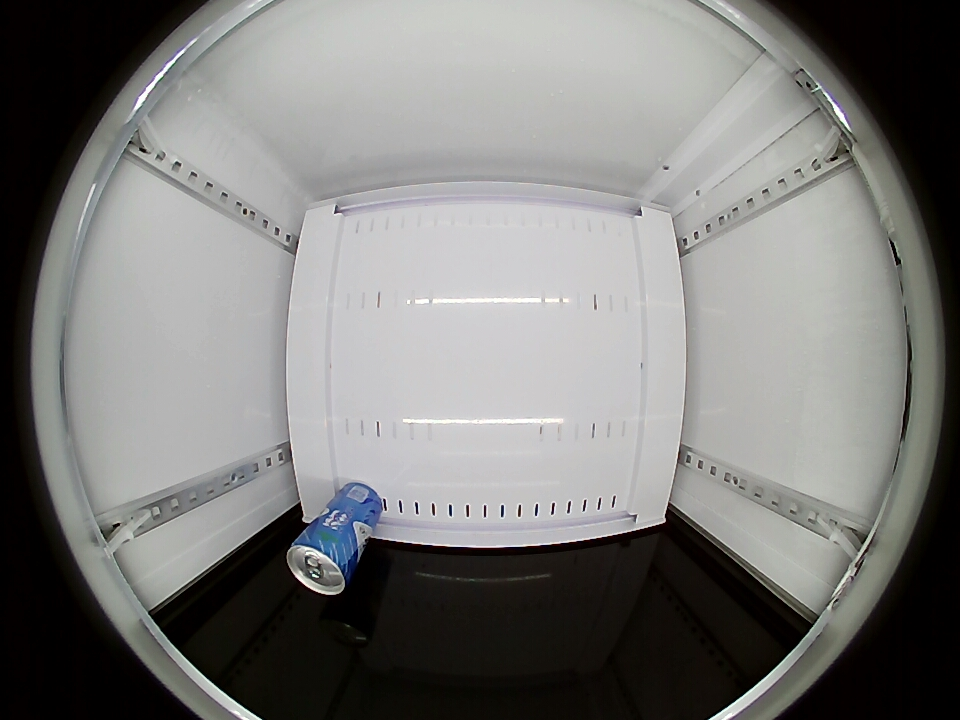qingdaowangzi-2: (287, 529, 357, 596)
